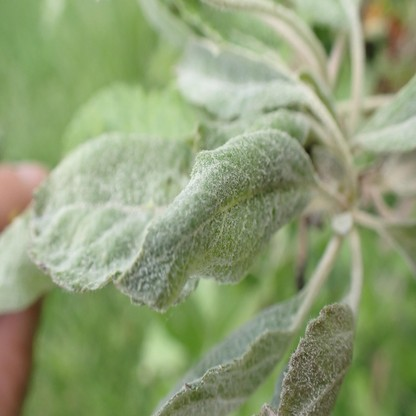powdery_mildew: (116, 129, 323, 313), (30, 125, 204, 294), (155, 293, 305, 413), (262, 301, 357, 411), (176, 45, 300, 114), (355, 72, 416, 152)
